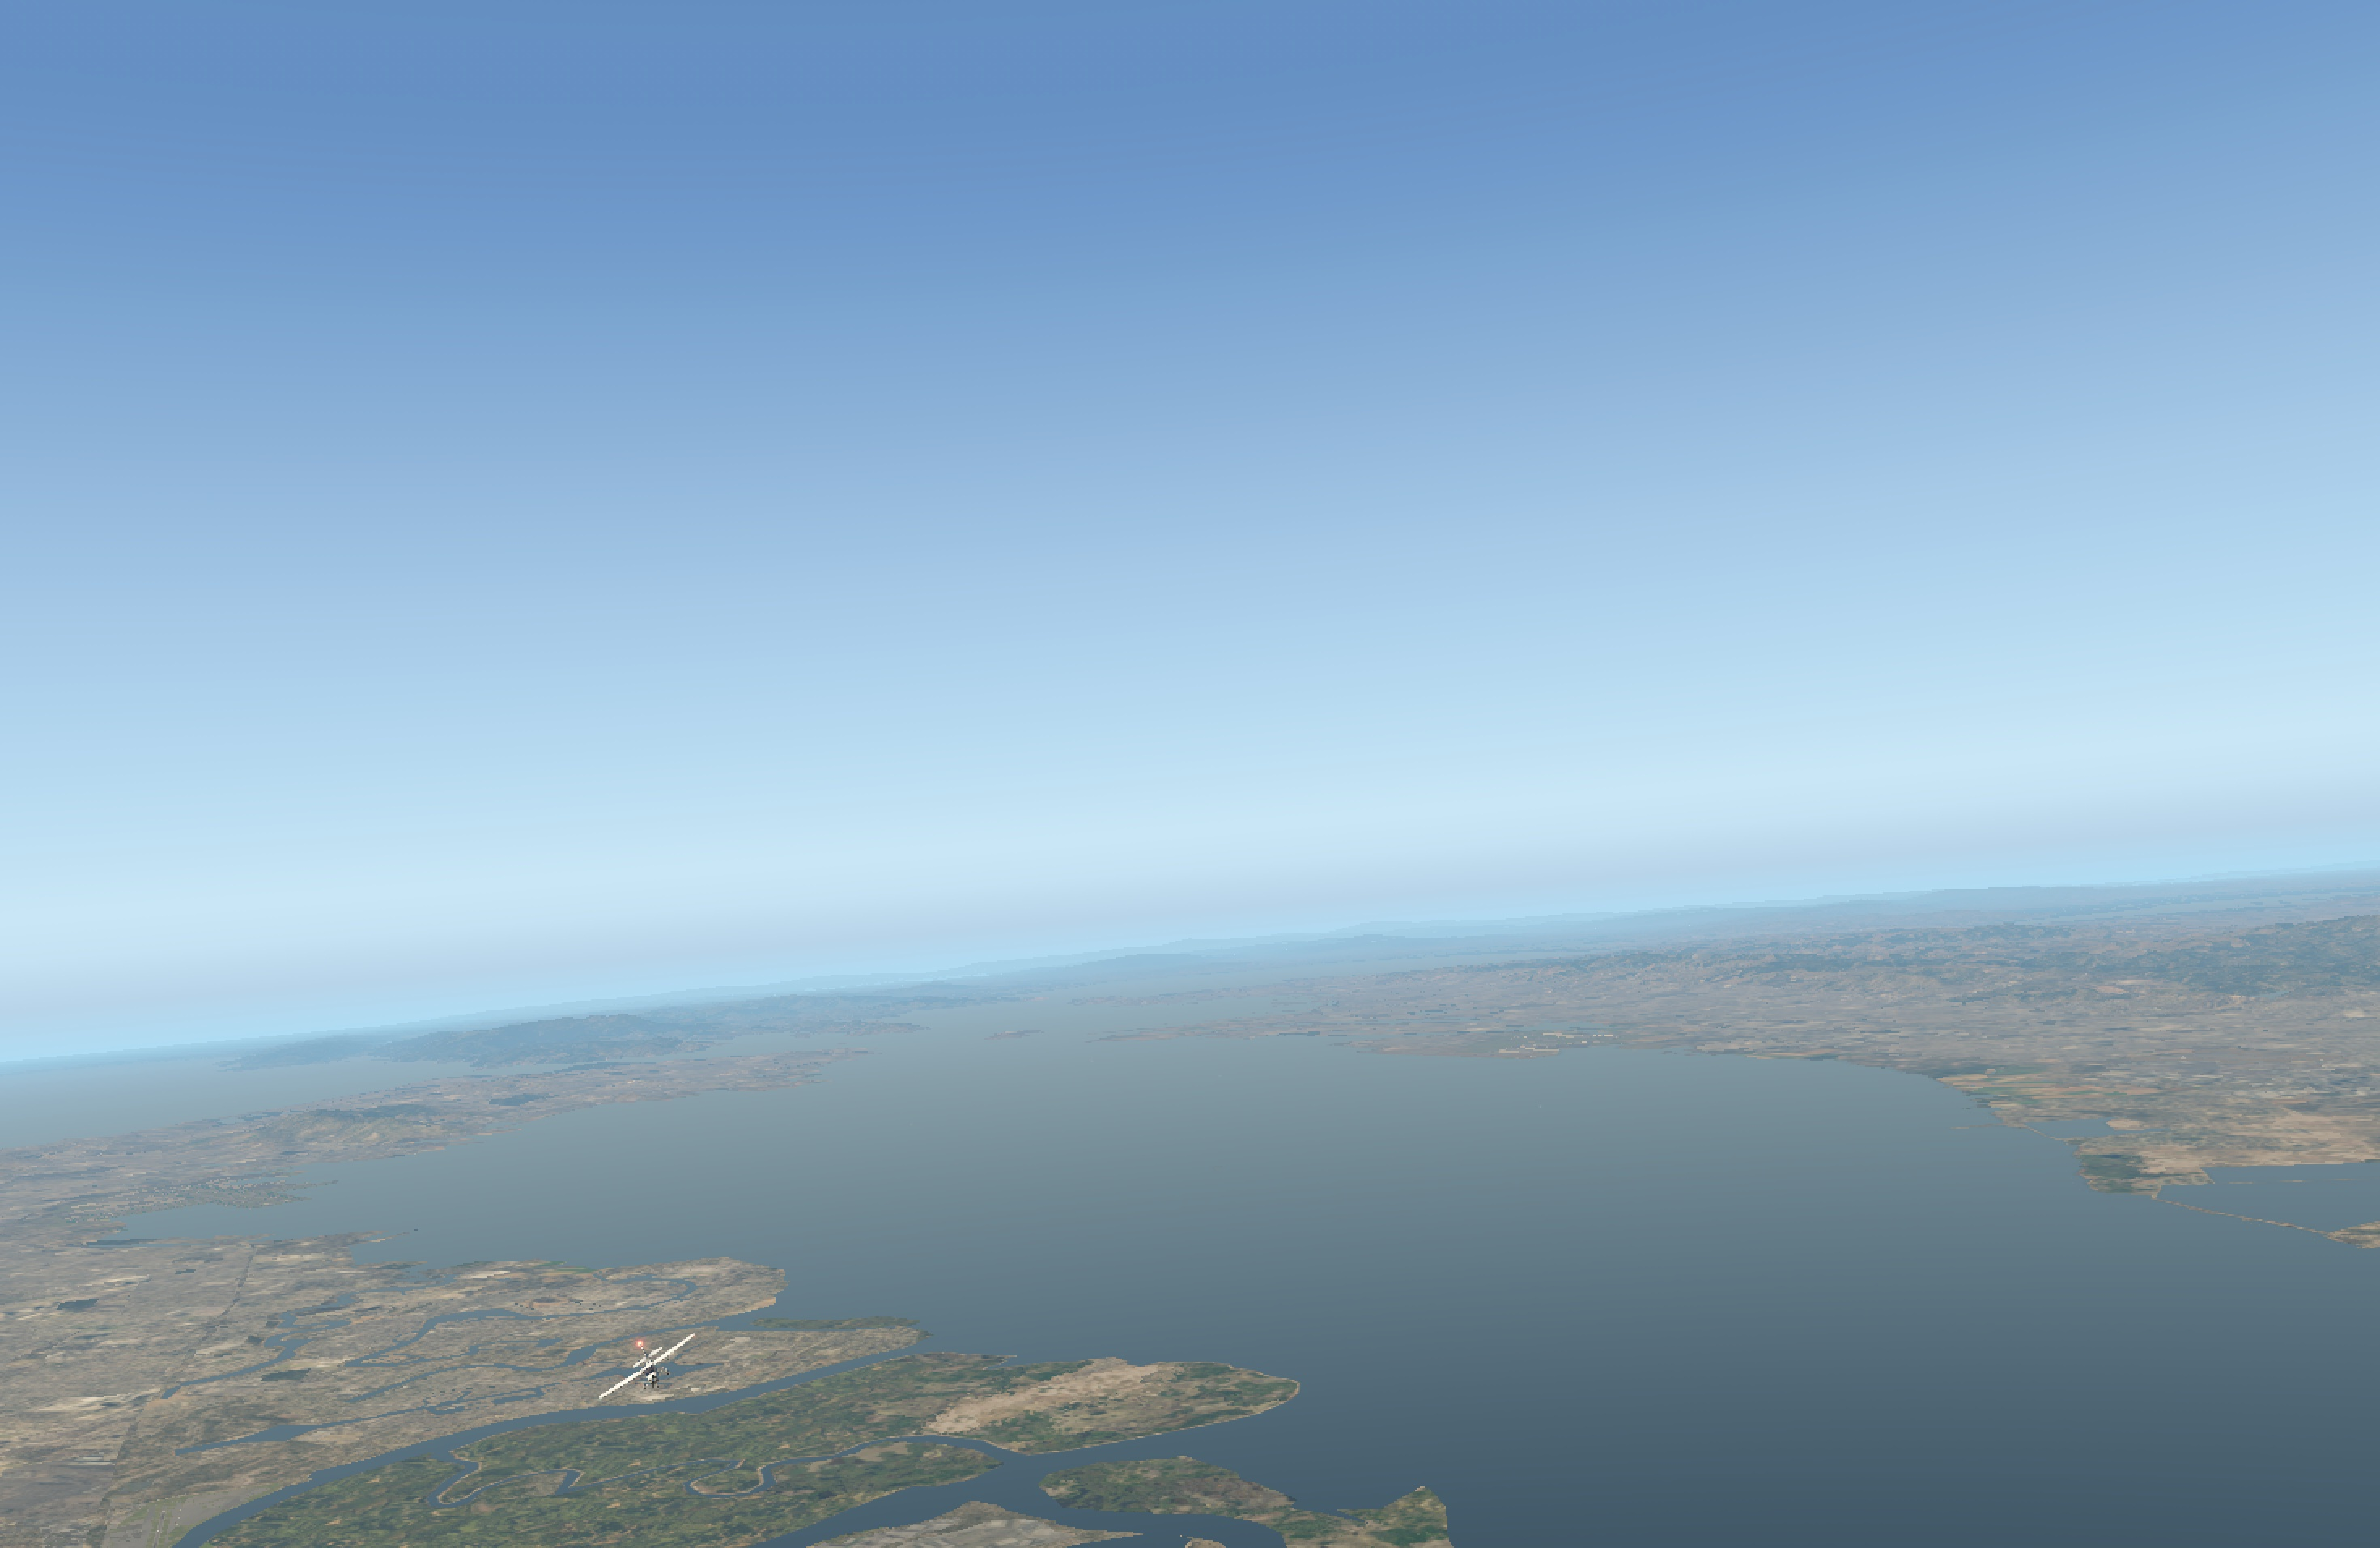aircraft: (614, 1359, 687, 1385)
